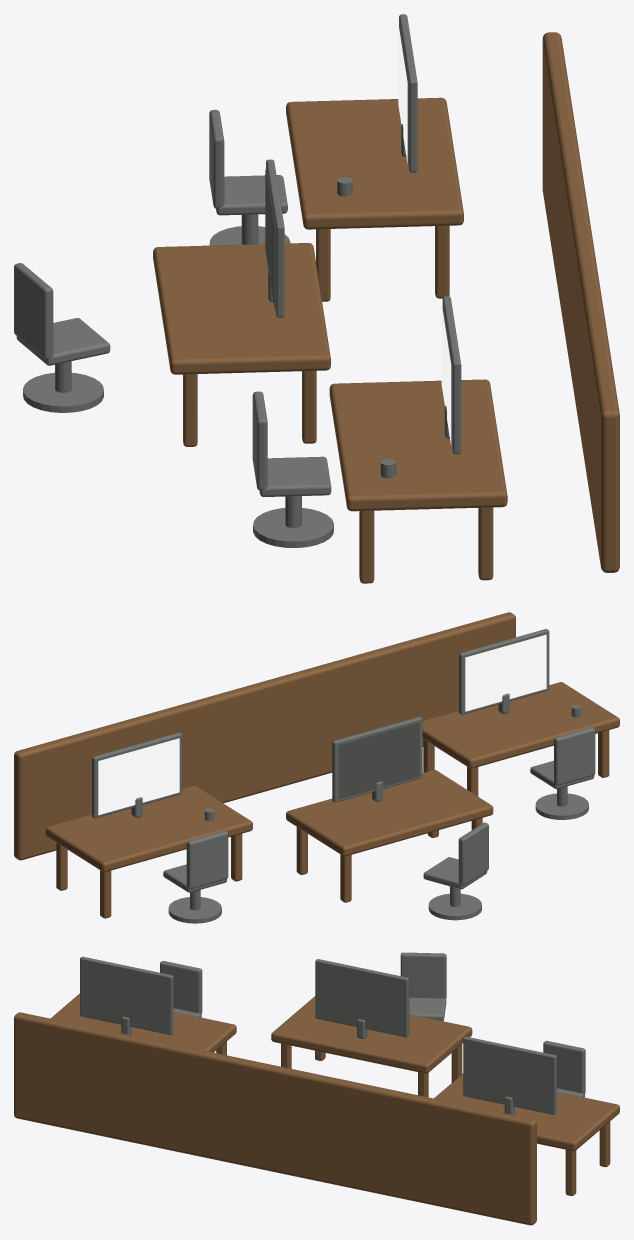
File: capacity.glb
3 renders of one model, top to bottom at view 1: azimuth 30°, elevation 25°; view 2: azimuth 150°, elevation 25°; view 3: azimuth 270°, elevation 25°, orthographic. The views are drawn at different scales.
Parts seen in each view (by area): view 1: way.capacity, desk2.screen, desk0.screen; view 2: way.capacity, desk0.screen, desk2.screen; view 3: way.capacity.
Part boxes in pixels (x1,y1,x2,y2): way.capacity: [14, 14, 619, 583]; desk2.screen: [441, 304, 451, 445]; desk0.screen: [398, 24, 407, 163]; way.capacity: [14, 612, 619, 923]; desk0.screen: [98, 738, 179, 815]; desk2.screen: [465, 634, 546, 711]; way.capacity: [14, 952, 619, 1225].
Bounding box in the file's own units: 5.98 × 1.84 × 7.94.
